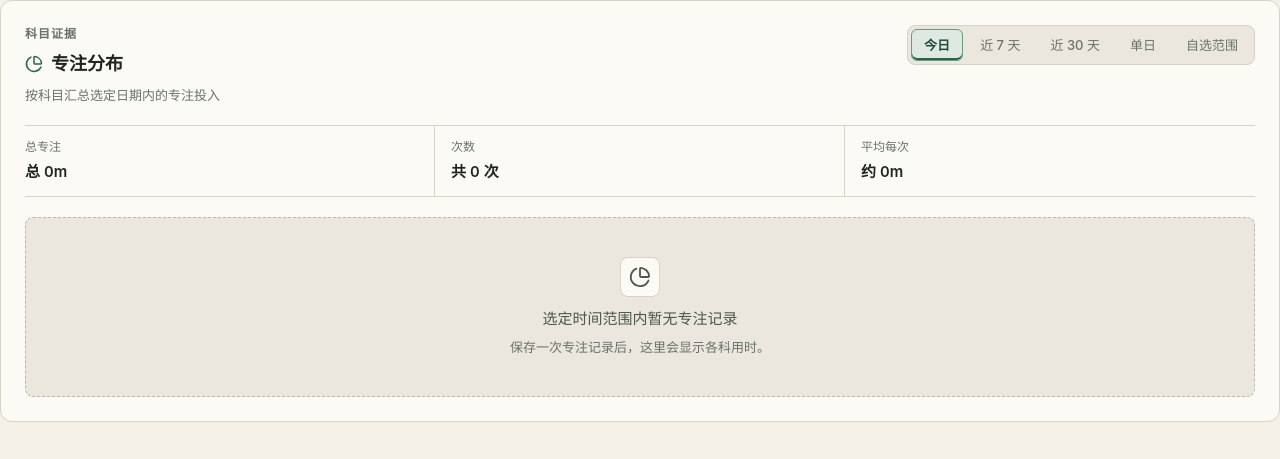
it: FocusDistributionChart › renders aggregated subject totals from week range stats
The image size is (1280, 459).
Expected: the element with test id "focus-distribution-empty" is shown, [25,217,1255,397]
Click the button with test id "focus-range-week" at (1000, 45), box [967,29,1034,61]
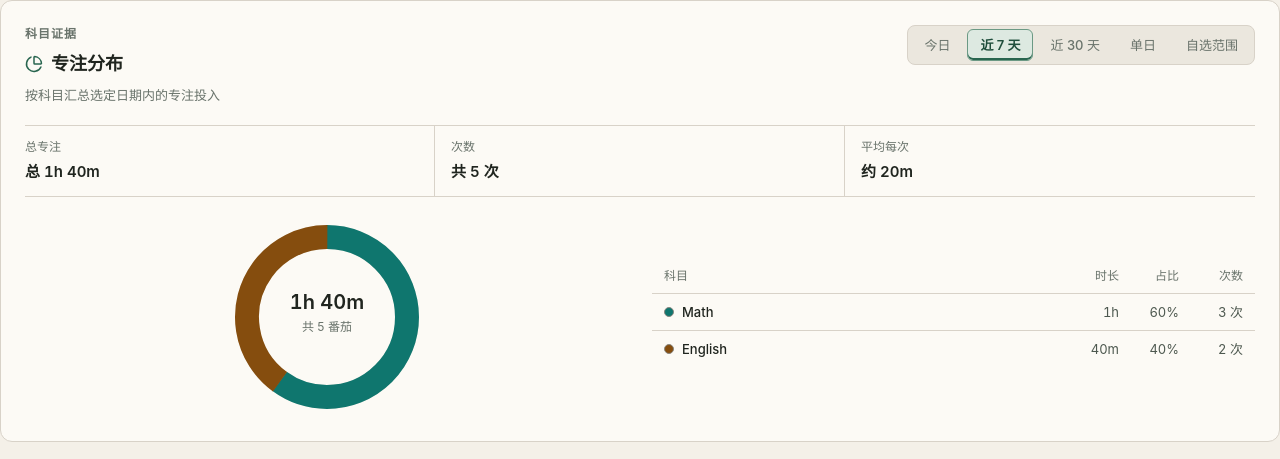
Expected: the element with test id "focus-distribution-chart" is shown, [226,217,1255,417]
Expected: the number of list items with test id "focus-legend-item" is 2, [652,293,1255,330]; [652,330,1255,367]
Expected: the list item with test id "focus-legend-item" shows "Math", [682,304,714,320]
